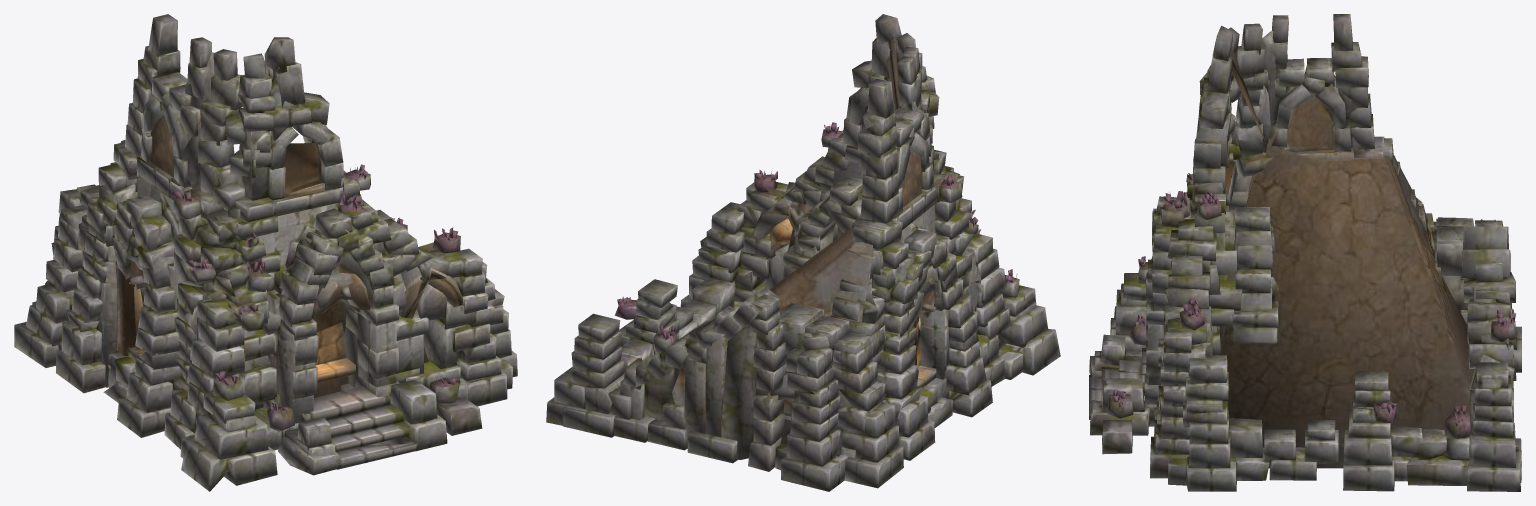
File: kit-bw-spired-chapel.glb
The picture shows the model from 3 angles, left to right: view 1: azimuth 30°, elevation 25°; view 2: azimuth 150°, elevation 25°; view 3: azimuth 270°, elevation 25°; orthographic projection. The views are drawn at different scales.
Parts seen in each view (by area): view 1: kit-bw-spired-chapel; view 2: kit-bw-spired-chapel; view 3: kit-bw-spired-chapel.
Part boxes in pixels (x1,y1,x2,y2): kit-bw-spired-chapel: (14, 14, 517, 491); kit-bw-spired-chapel: (546, 14, 1060, 491); kit-bw-spired-chapel: (1089, 14, 1521, 491).
Bounding box in the file's own units: 15.33 × 16 × 17.28.
Materials: 1 (1 with a texture image).
